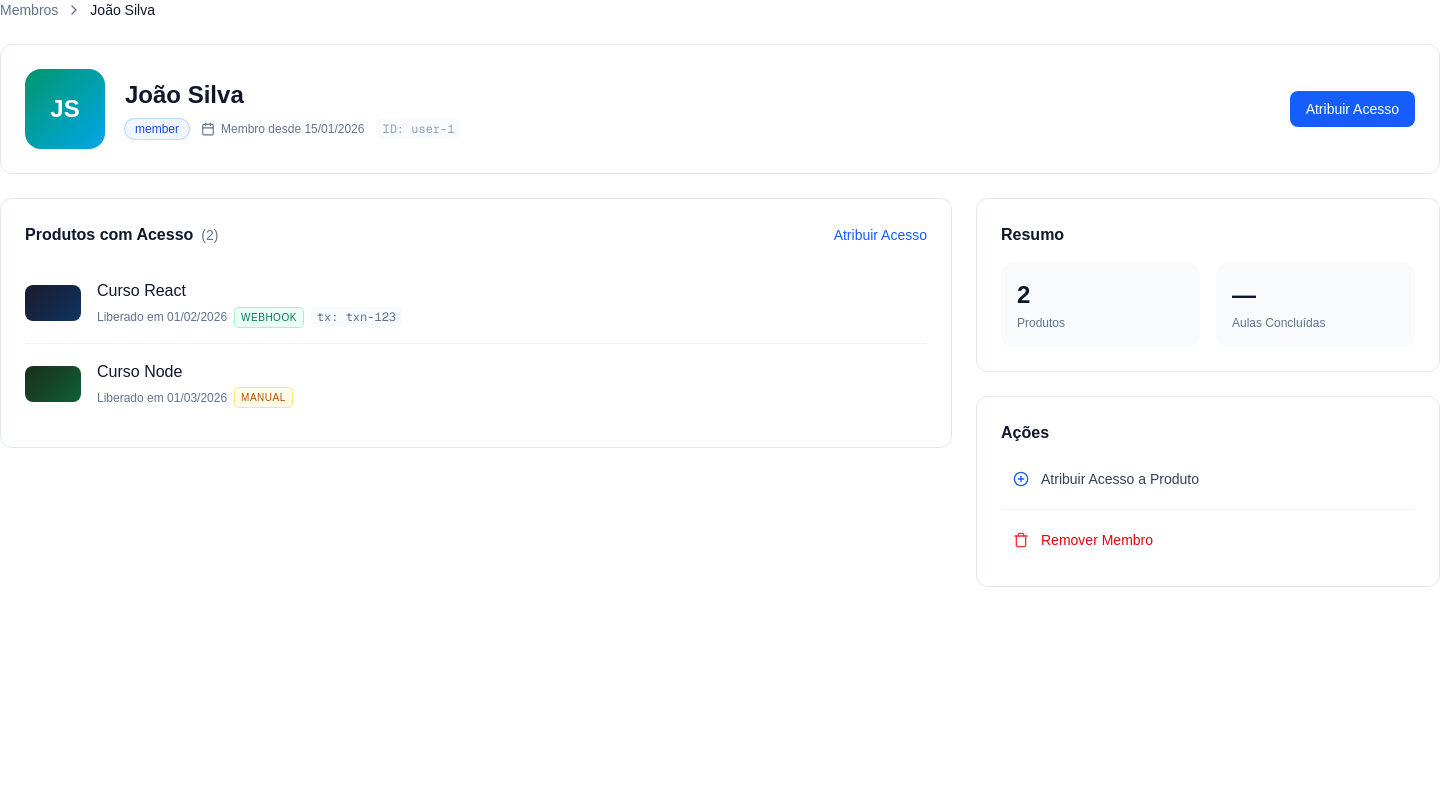
Scenario: MemberDetail › opens grant modal when button is clicked
Click the button "Atribuir Acesso" in the row of "user-1".
click(1352, 109)  # box x1=1290 y1=91 x2=1415 y2=127
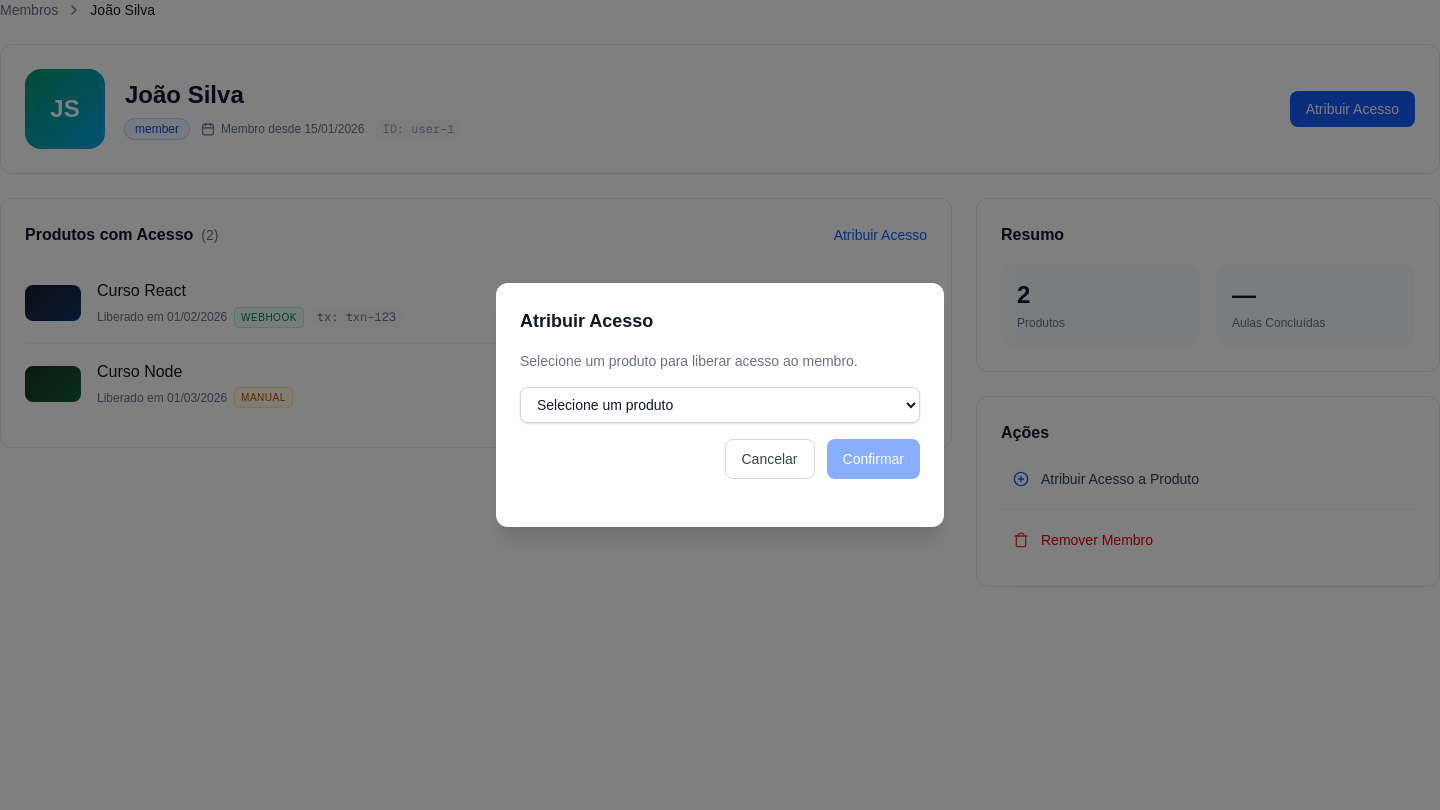
Check: the text "Selecione um produto para liberar acesso ao membro." is shown, box x1=520 y1=353 x2=858 y2=369
